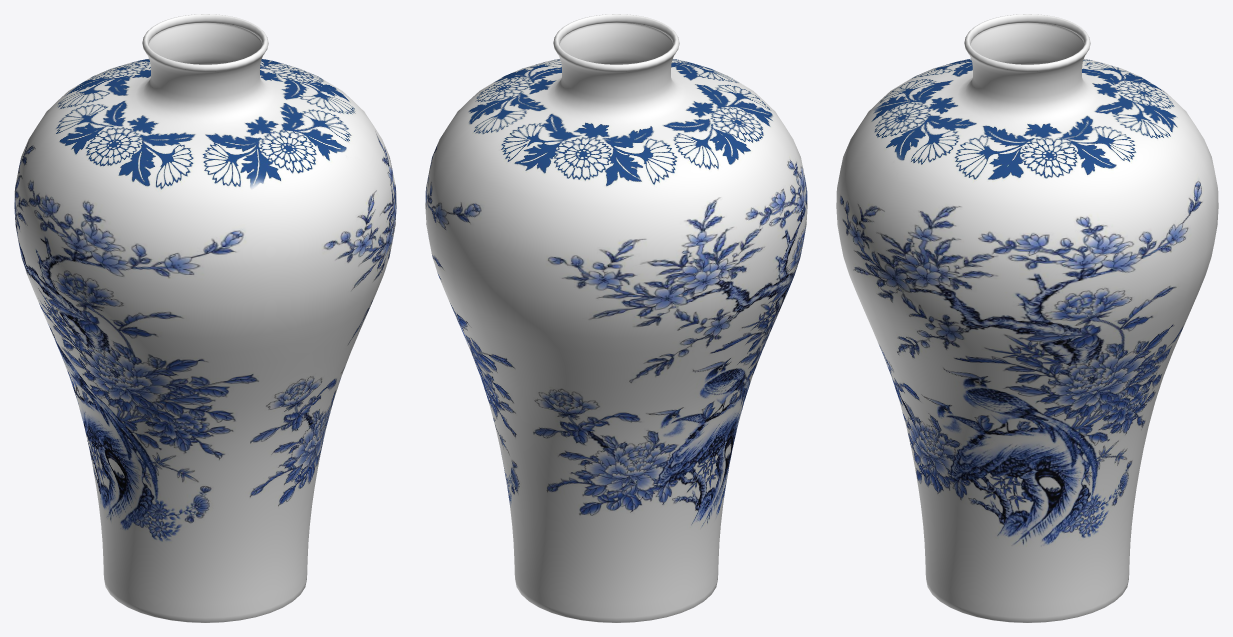
Rendered from pingzi.obj.
3 renders of one model, left to right at view 1: azimuth 30°, elevation 25°; view 2: azimuth 150°, elevation 25°; view 3: azimuth 270°, elevation 25°, orthographic.
Parts seen in each view (by area): view 1: Cylinder002; view 2: Cylinder002; view 3: Cylinder002.
Boxes of the visible parts, bbox=[...] form: Cylinder002: bbox=[14, 14, 396, 622]; Cylinder002: bbox=[425, 14, 807, 622]; Cylinder002: bbox=[836, 14, 1218, 622].
Size of the model in its own units: 99.32 by 155 by 99.31.
